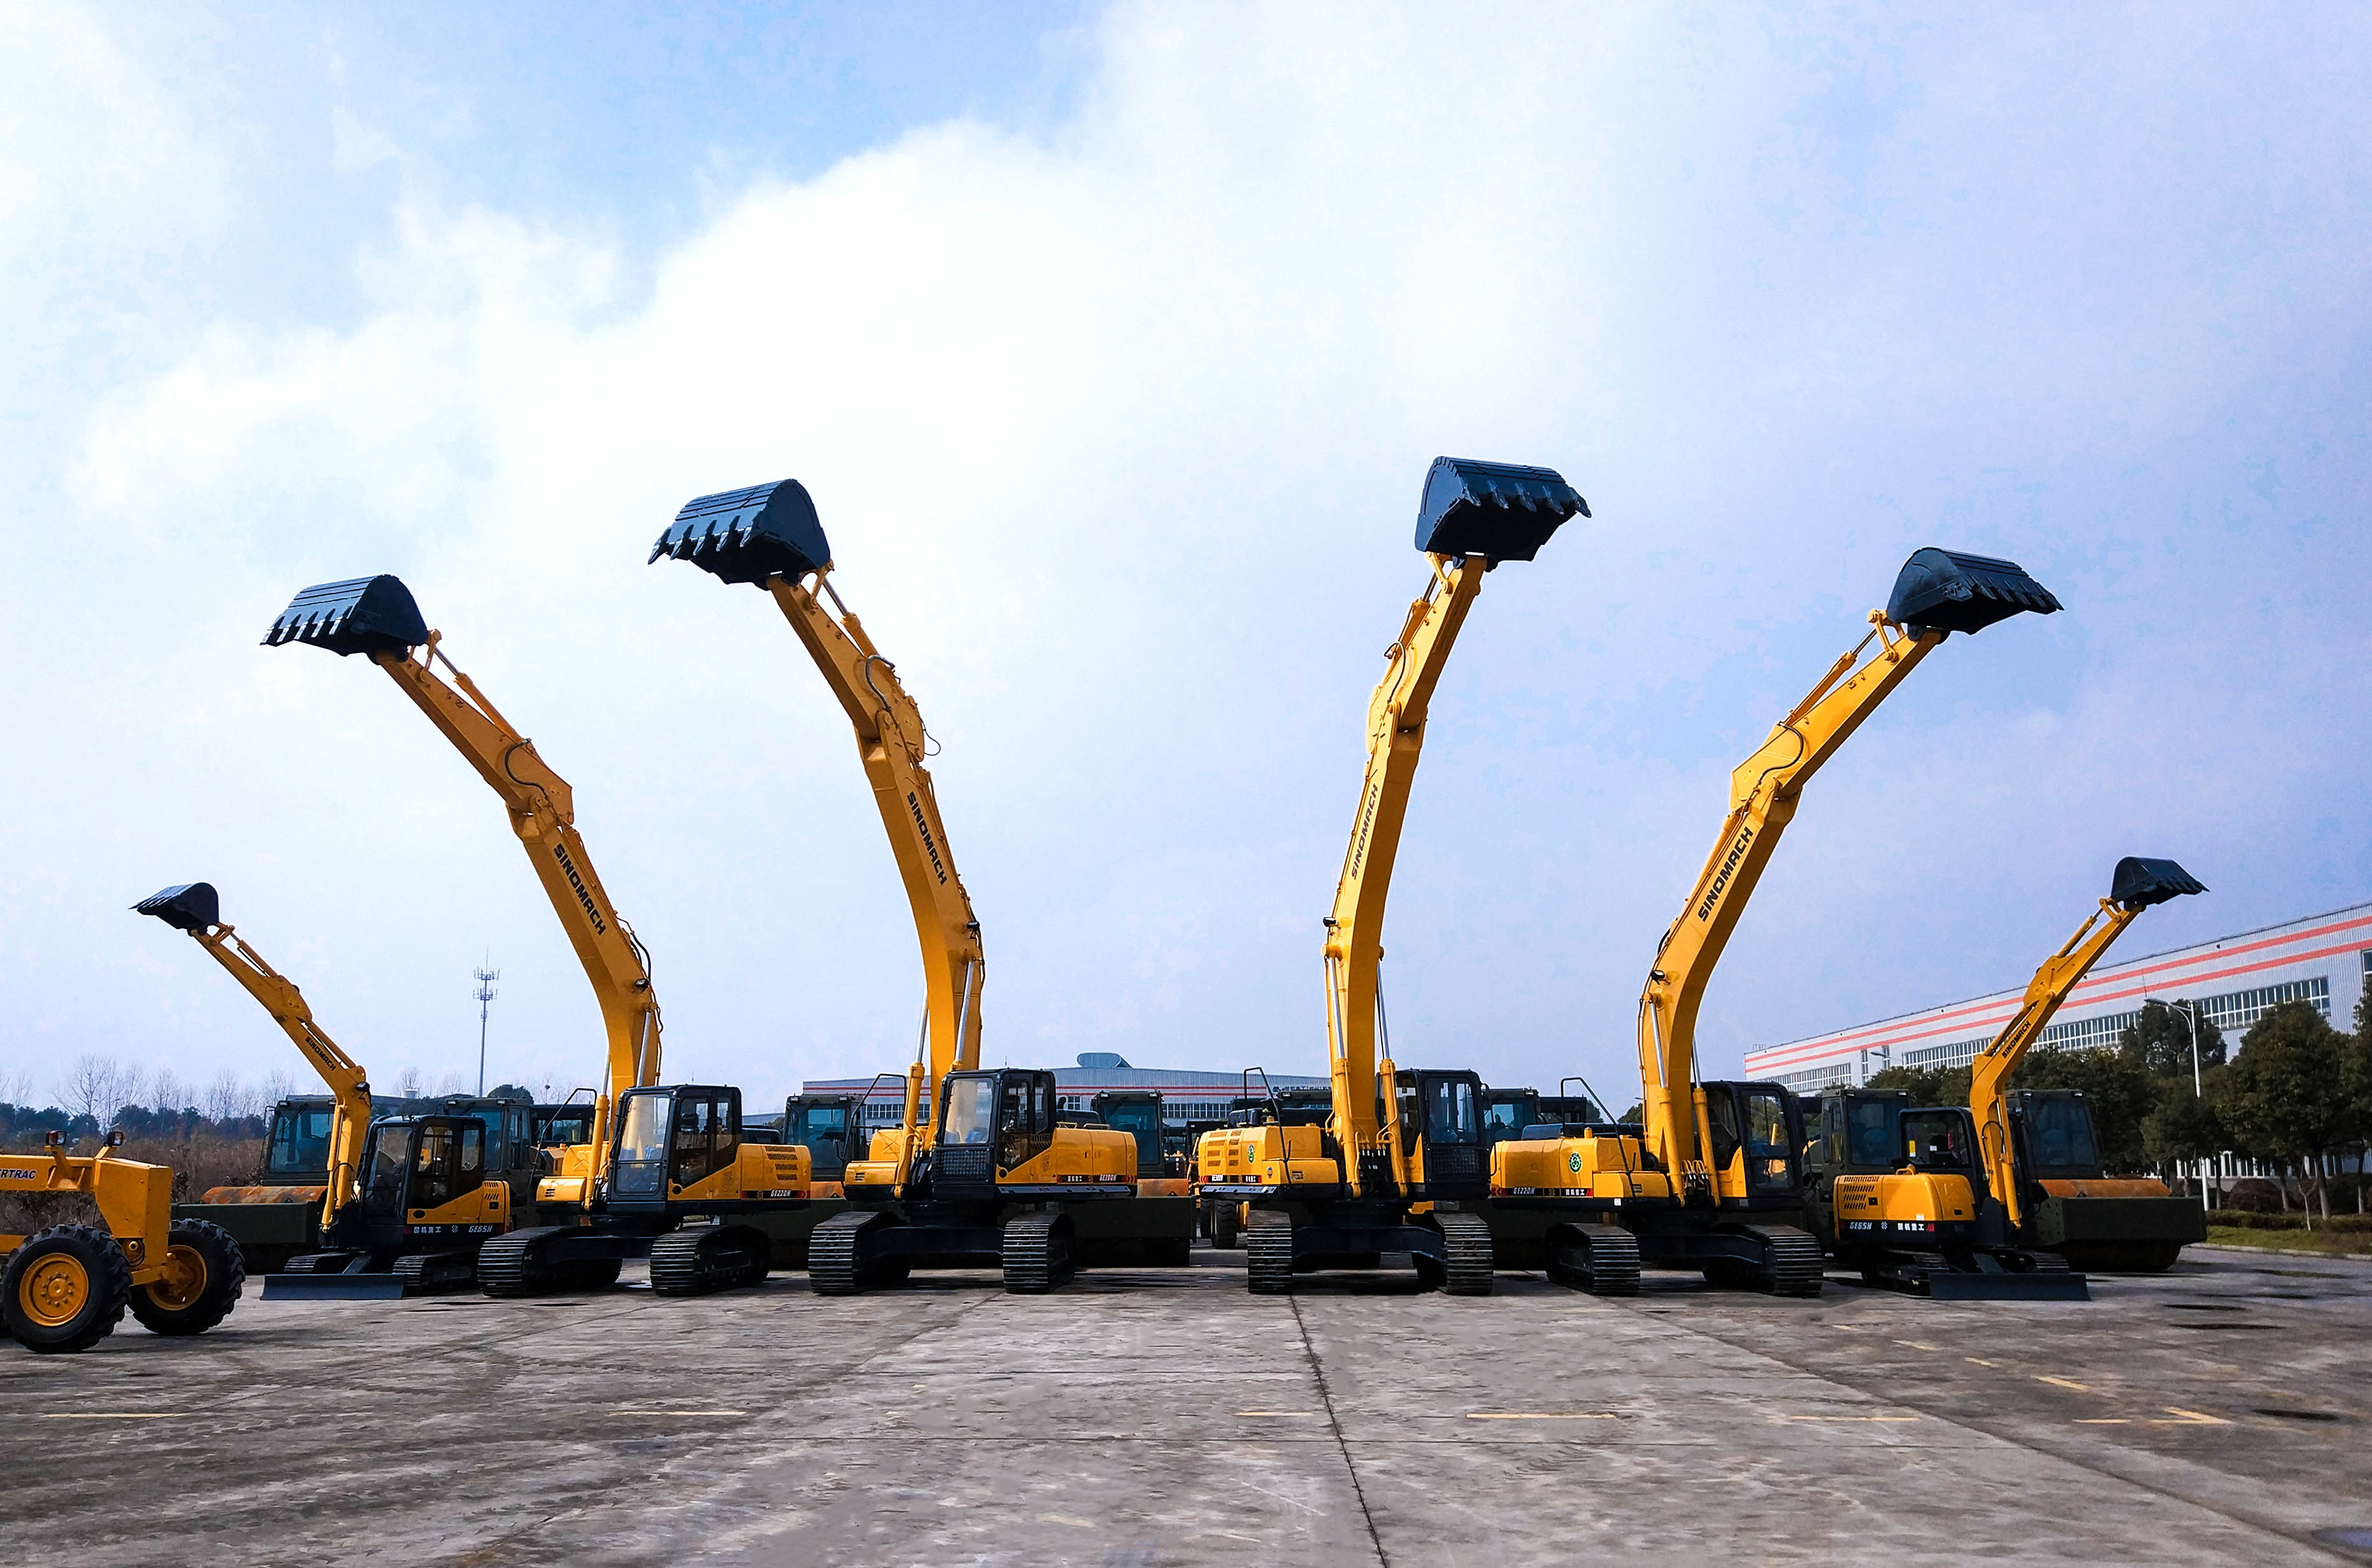excavator: (644, 455, 1214, 1295), (1506, 534, 2087, 1321), (1125, 453, 1613, 1340), (257, 548, 824, 1298), (1831, 852, 2272, 1344), (149, 870, 500, 1326)
